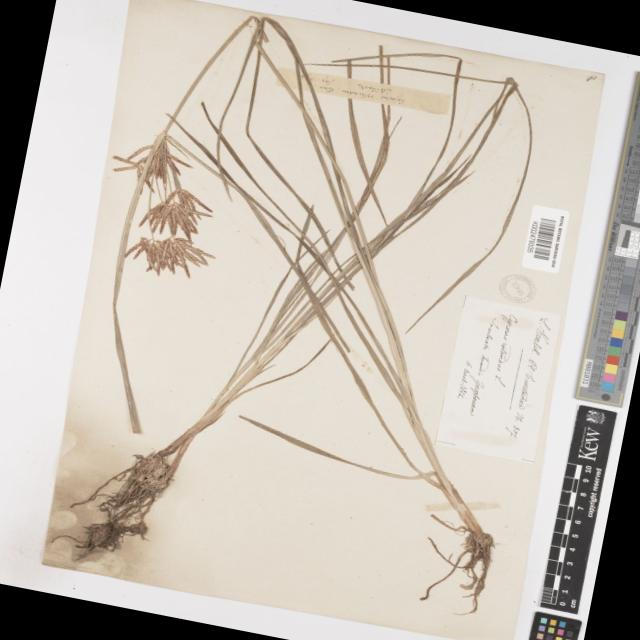cyperus: (83, 118, 253, 296)
